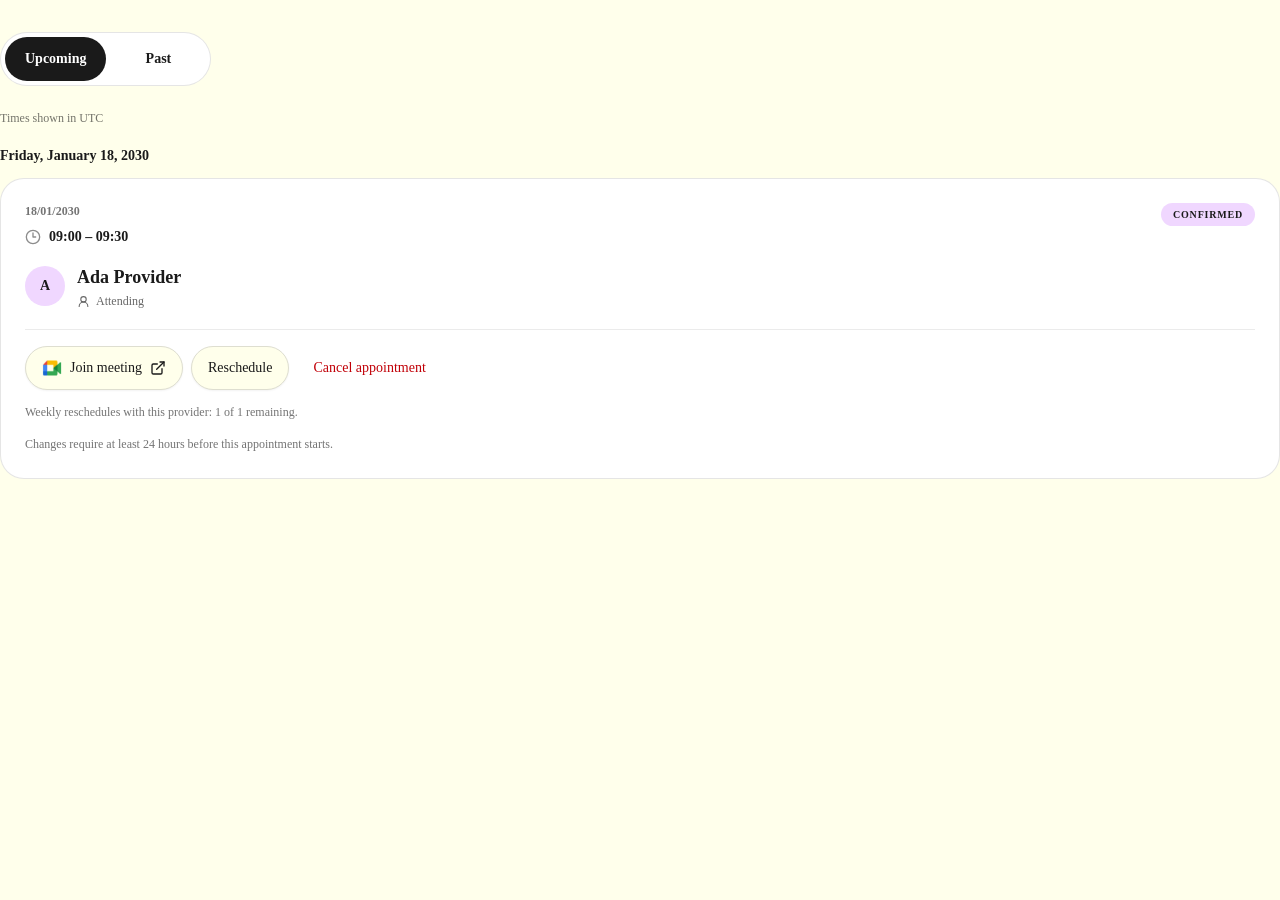
appointment agenda › keeps the card unchanged and reports a rejected cancellation
The image size is (1280, 900).
Expected: the text "Ada Provider" is shown, [77,267,181,287]
Click the button "Cancel appointment": (370, 368) [298,346,442,390]
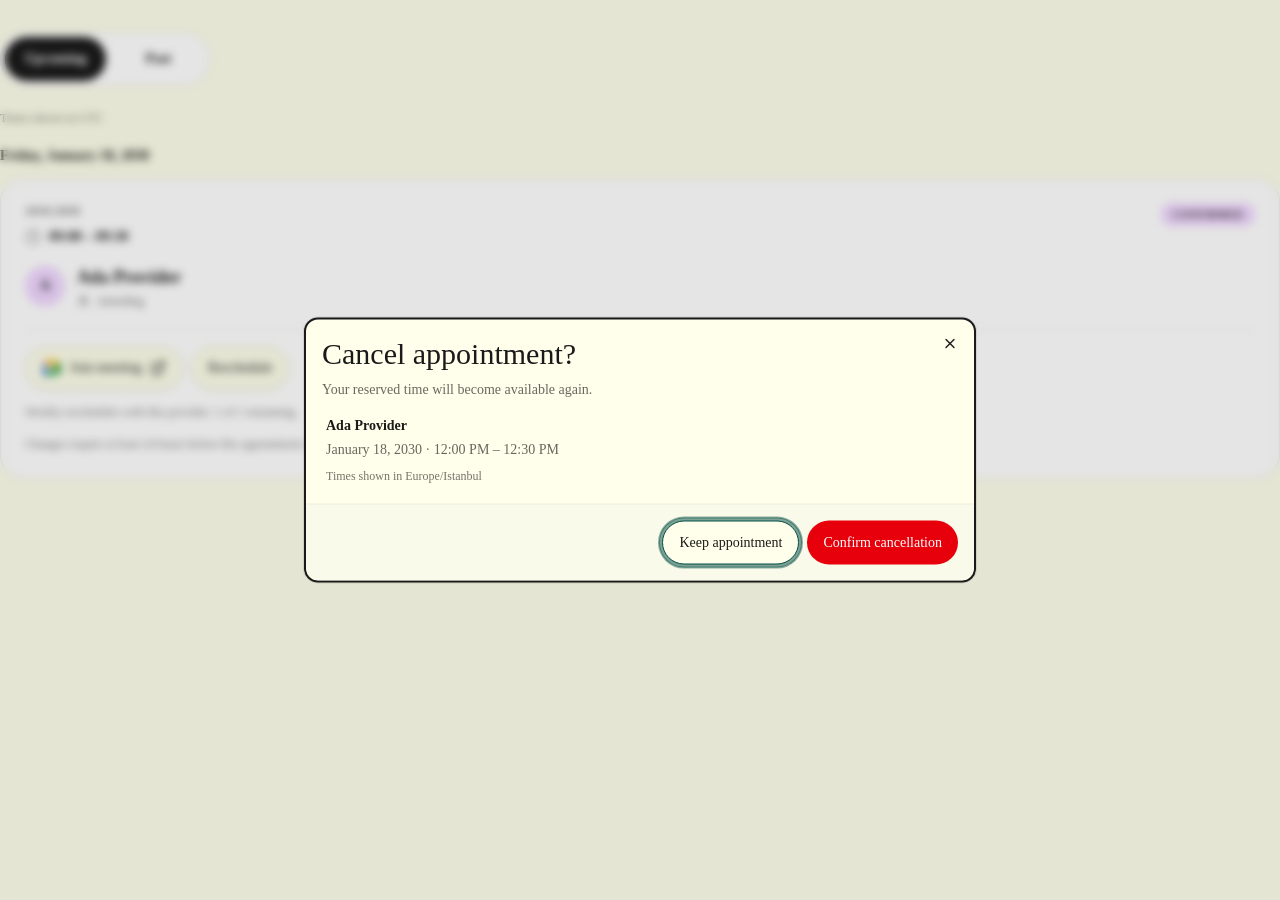
Click the button "Confirm cancellation": (883, 542) [807,520,958,564]
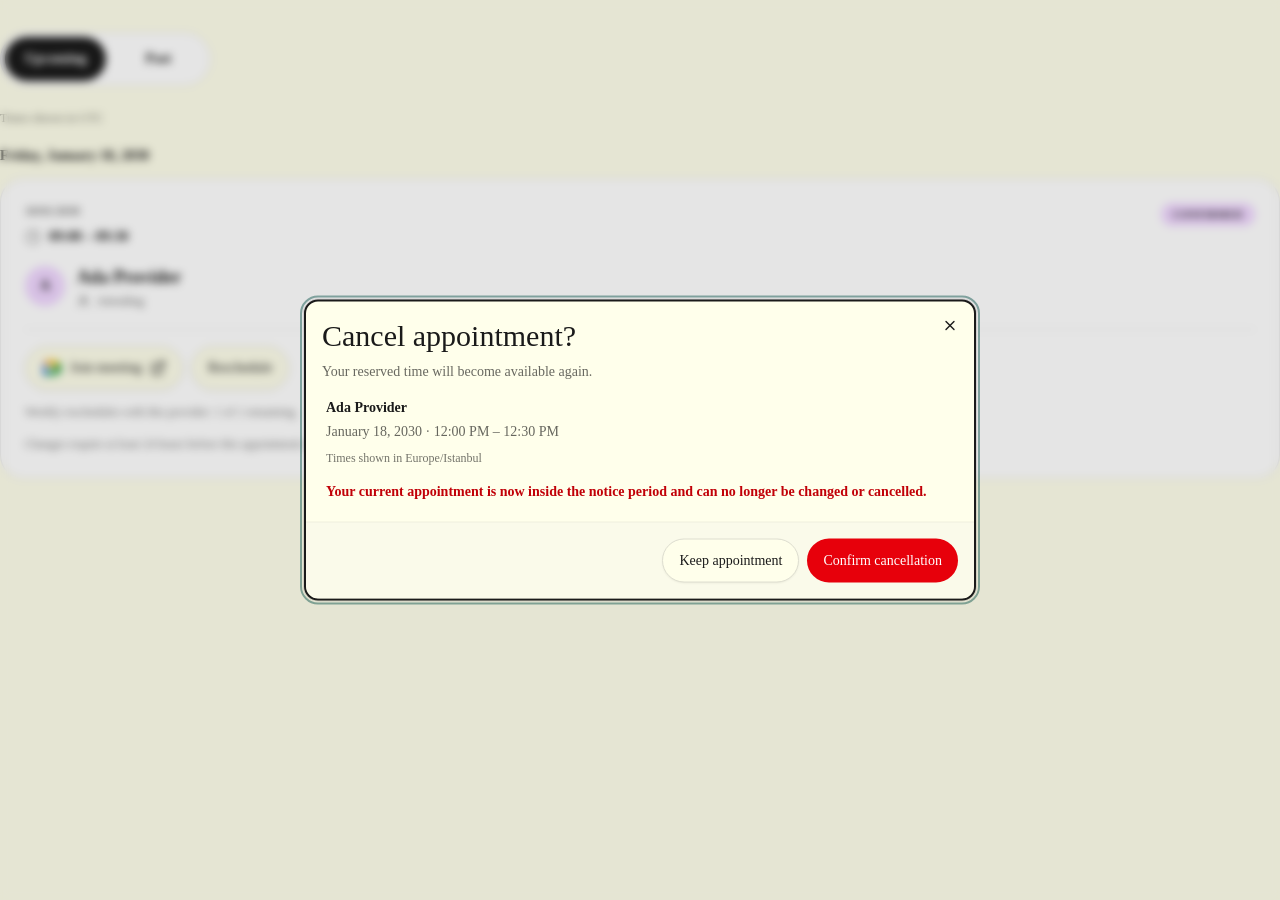
Expected: the message shows "Your current appointment is now inside the notice period and can no longer be changed or cancelled.", [326,484,927,498]
Click the button "Keep appointment": (731, 560) [662,538,799,582]
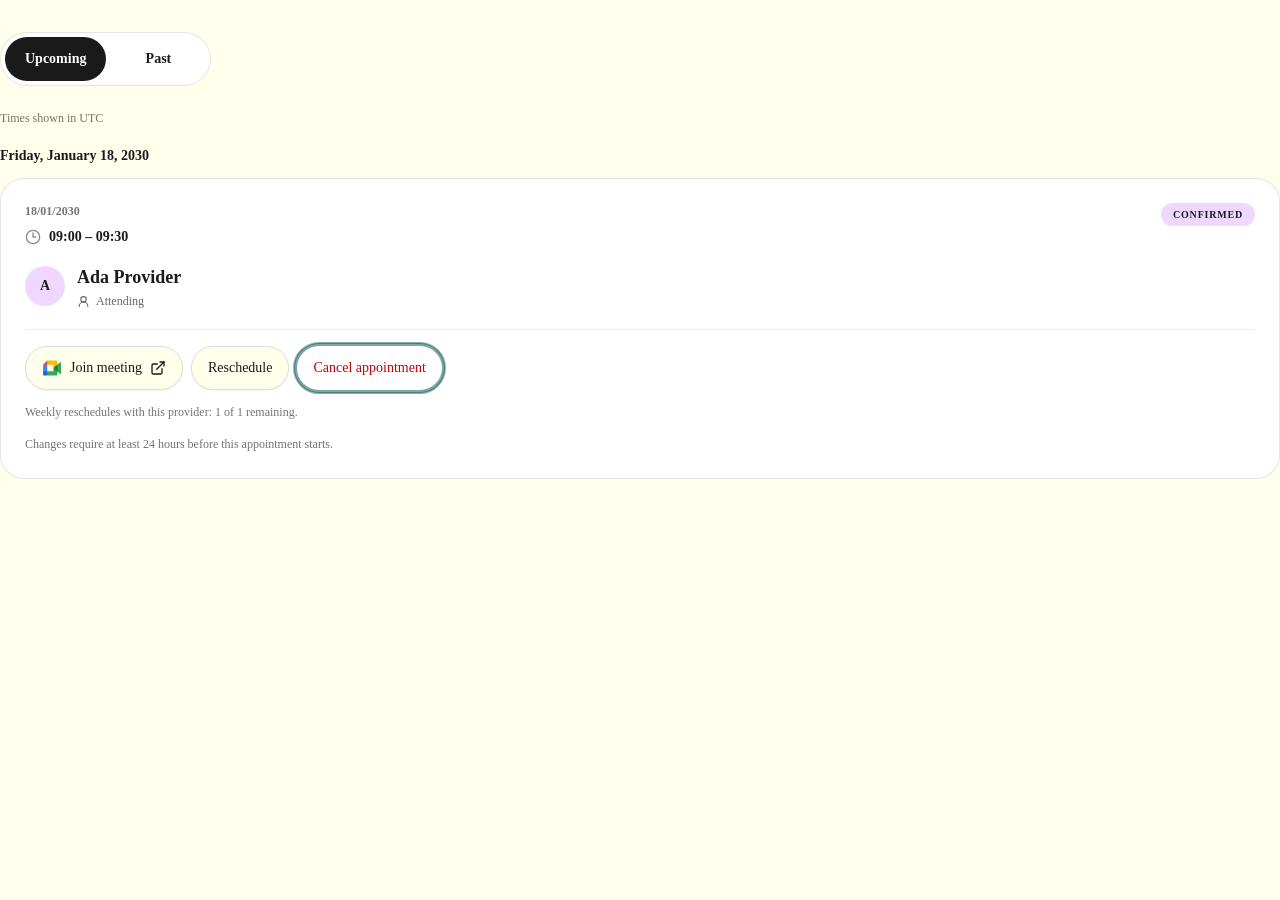
Expected: the dialog is gone
